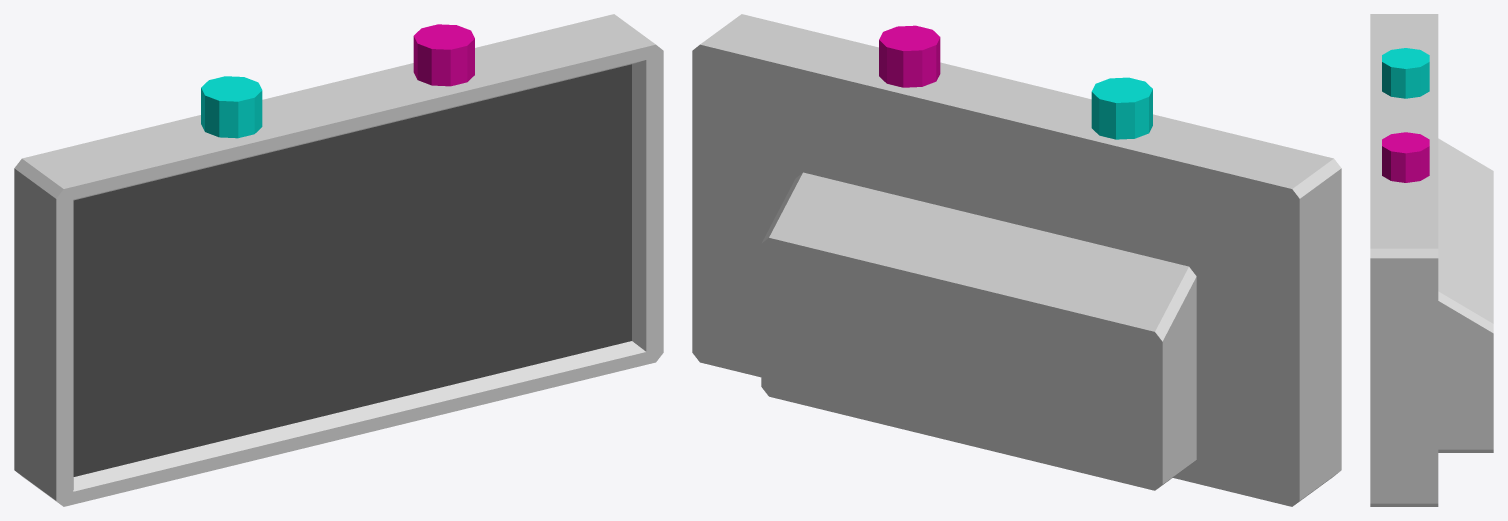
The model's file is digitalClock.fbx.
The picture shows the model from 3 angles, left to right: view 1: azimuth 30°, elevation 25°; view 2: azimuth 150°, elevation 25°; view 3: azimuth 270°, elevation 25°; orthographic projection. The views are drawn at different scales.
Visible parts, largest first — view 1: digitalClock; view 2: digitalClock; view 3: digitalClock.
Part boxes in pixels (x1,y1,x2,y2): digitalClock: (14, 14, 663, 506); digitalClock: (692, 14, 1341, 506); digitalClock: (1370, 14, 1493, 506).
Bounding box in the file's own units: 4 × 2.24 × 0.8661.
